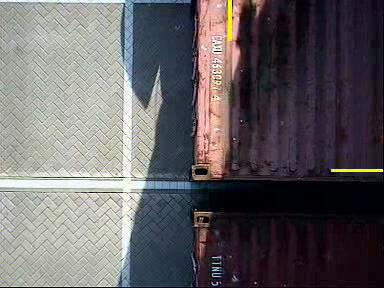groundmarker_2: (197, 87, 256, 167)
